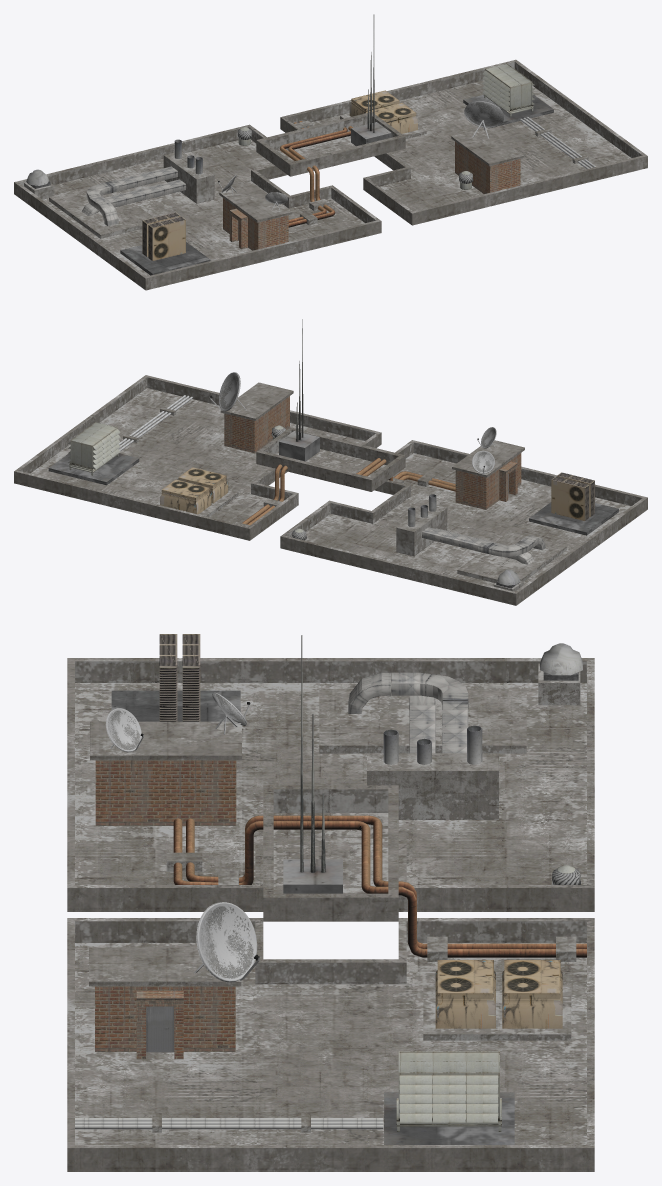
The model's file is roof03.fbx.
The picture shows the model from 3 angles, top to bottom: view 1: azimuth 30°, elevation 25°; view 2: azimuth 150°, elevation 25°; view 3: azimuth 270°, elevation 25°; orthographic projection. The views are drawn at different scales.
Parts seen in each view (by area): view 1: Object28, Object27, Box155, O02, Box1492, Rectangle5205, Box149, O01, Box156, Box1505, Object163, Box1516 (+8 smaller); view 2: Object27, Object28, Box155, O02, O01, Box156, Box1492, Box1505, k39, Box151, Rectangle5205, Object163 (+9 smaller); view 3: Object28, Object27, O01, Box155, Rectangle5205, Box156, O02, Box149, Box1492, Box1512, k38, k39 (+18 smaller).
Part boxes in pixels (x1=…): Object28: x1=280, y1=59, x2=647, y2=225; Object27: x1=14, y1=124, x2=381, y2=290; Box155: x1=49, y1=186, x2=153, y2=238; O02: x1=455, y1=141, x2=520, y2=193; Box1492: x1=451, y1=128, x2=524, y2=166; Rectangle5205: x1=279, y1=121, x2=352, y2=227; Box149: x1=219, y1=184, x2=292, y2=222; O01: x1=223, y1=198, x2=288, y2=250; Box156: x1=163, y1=151, x2=214, y2=203; Box1505: x1=120, y1=242, x2=210, y2=275; Object163: x1=485, y1=63, x2=532, y2=110; Box1516: x1=152, y1=220, x2=185, y2=260; Object27: x1=280, y1=440, x2=647, y2=605; Object28: x1=14, y1=375, x2=381, y2=540; Box155: x1=457, y1=532, x2=566, y2=582; O02: x1=224, y1=396, x2=289, y2=453; O01: x1=455, y1=453, x2=521, y2=509; Box156: x1=396, y1=504, x2=447, y2=556; Box1492: x1=220, y1=382, x2=293, y2=420; Box1505: x1=529, y1=502, x2=618, y2=535; k39: x1=160, y1=479, x2=211, y2=514; Box151: x1=48, y1=453, x2=139, y2=485; Rectangle5205: x1=242, y1=458, x2=455, y2=525; Object163: x1=70, y1=422, x2=117, y2=469; Object28: x1=67, y1=841, x2=594, y2=1171; Object27: x1=67, y1=658, x2=594, y2=911; O01: x1=95, y1=760, x2=236, y2=825; Box155: x1=319, y1=689, x2=526, y2=753; Rectangle5205: x1=173, y1=815, x2=586, y2=957; Box156: x1=367, y1=753, x2=498, y2=819; O02: x1=95, y1=986, x2=235, y2=1051; Box149: x1=90, y1=721, x2=241, y2=760; Box1492: x1=89, y1=947, x2=241, y2=986; Box1512: x1=399, y1=1075, x2=498, y2=1122; k38: x1=435, y1=960, x2=495, y2=1028; k39: x1=502, y1=960, x2=562, y2=1028.
Size of the model in its own units: 33 by 10.61 by 15.
